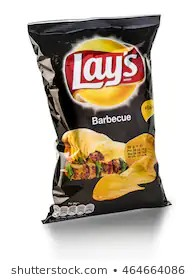lays-med: (29, 16, 169, 224)
